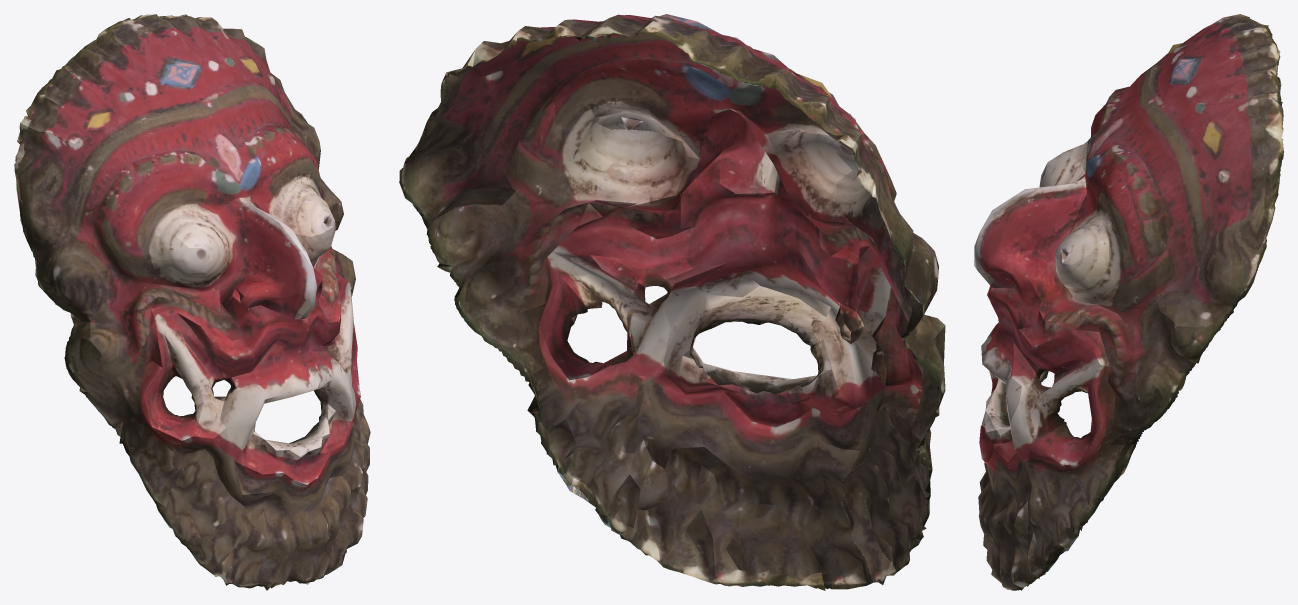
The model's file is topeng-bali.glb.
The picture shows the model from 3 angles, left to right: view 1: azimuth 30°, elevation 25°; view 2: azimuth 150°, elevation 25°; view 3: azimuth 270°, elevation 25°; orthographic projection. The views are drawn at different scales.
Visible parts, largest first — view 1: Object_2, Object_3; view 2: Object_3, Object_2; view 3: Object_2, Object_3.
Part boxes in pixels (x1,y1,x2,y2): Object_2: (14,14,370,585); Object_3: (20,31,364,590); Object_3: (426,22,945,590); Object_2: (399,14,945,584); Object_2: (980,23,1283,579); Object_3: (974,14,1261,590).
Size of the model in its own units: 1.82 by 2.68 by 1.45.
Materials: 2 (2 with a texture image).
